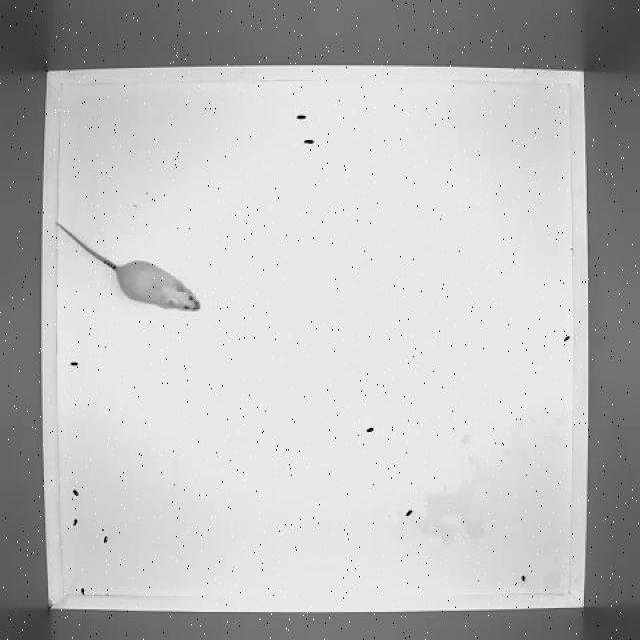rat: (54, 218, 202, 314)
